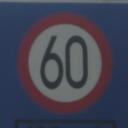speed_limit_60: (18, 12, 111, 116)
